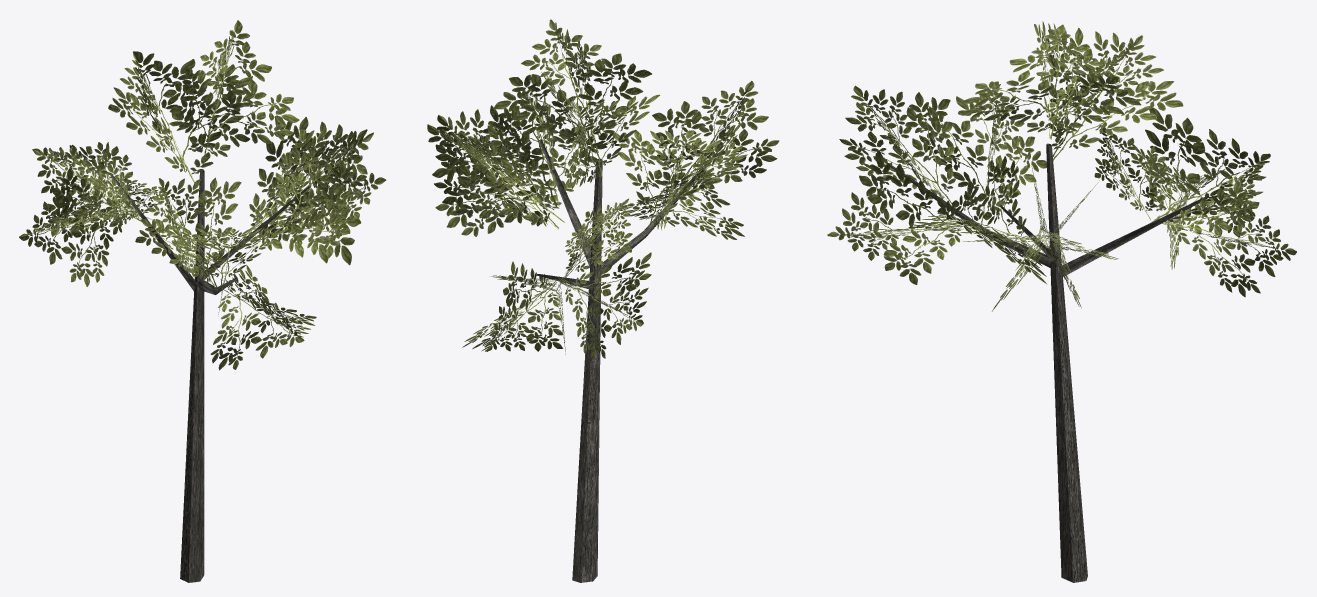
File: Tree-B-02.fbx
3 renders of one model, left to right at view 1: azimuth 30°, elevation 25°; view 2: azimuth 150°, elevation 25°; view 3: azimuth 270°, elevation 25°, orthographic. The views are drawn at different scales.
Visible parts, largest first — view 1: Leaves; view 2: Leaves; view 3: Leaves.
Boxes of the visible parts, x1=… form: Leaves: x1=19, y1=20, x2=386, y2=582; Leaves: x1=427, y1=19, x2=779, y2=582; Leaves: x1=827, y1=21, x2=1296, y2=582.
Bounding box in the file's own units: 444 × 805 × 606.
